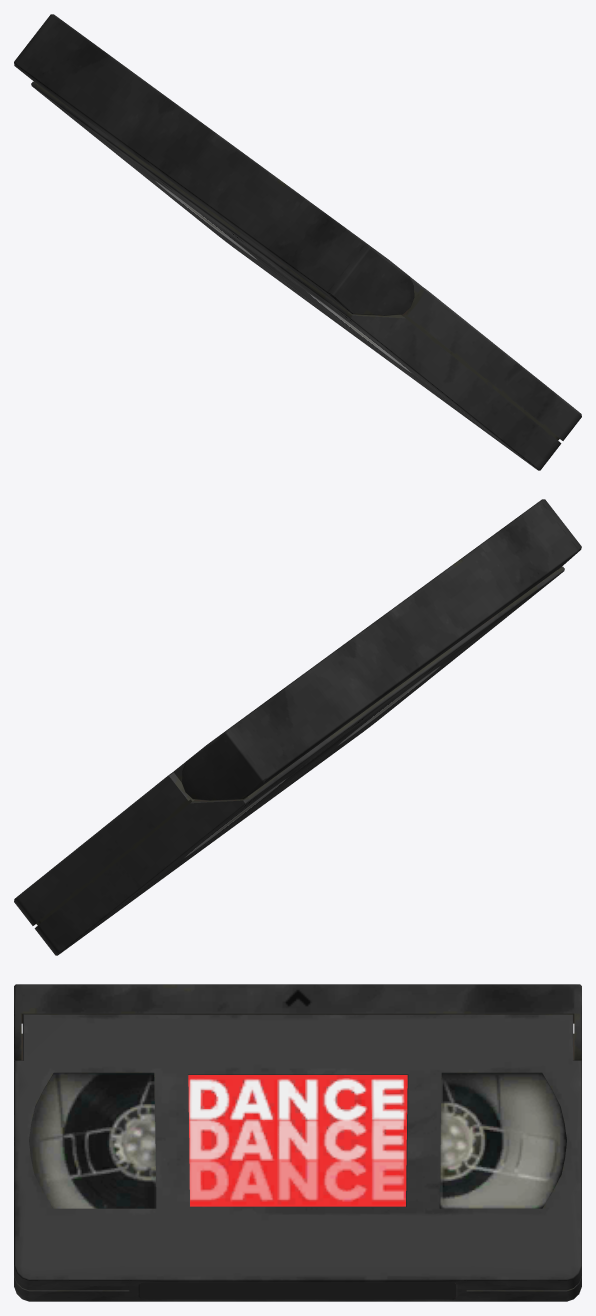
Rendered from Dance_Case.glb.
3 views of the same model, one above another, from view 1: azimuth 30°, elevation 25°; view 2: azimuth 150°, elevation 25°; view 3: azimuth 270°, elevation 25° (orthographic). The views are drawn at different scales.
Visible parts, largest first — view 1: Dance_Case; view 2: Dance_Case; view 3: Dance_Case.
Part boxes in pixels (x1,y1,x2,y2): Dance_Case: (14,14,581,470); Dance_Case: (14,499,581,955); Dance_Case: (14,984,581,1301).
Bounding box in the file's own units: 0.2317 × 0.2347 × 0.5025.
1 material, 1 textured.
